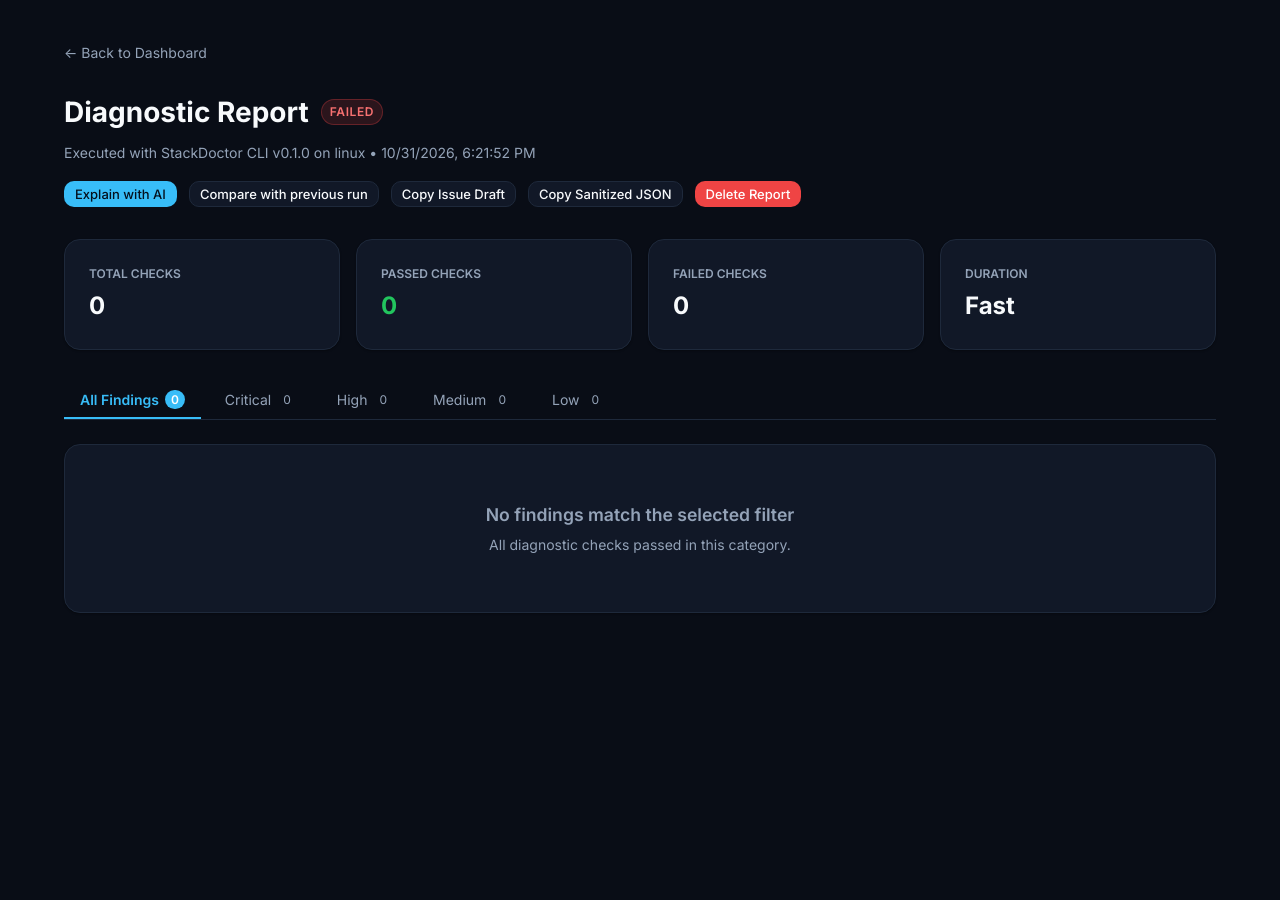
it: StackDoctor Web Application Pages (Run 3E) › 3. Diagnostic Report Page (Observed Evidence vs Possible Causes) › renders 'Explain with AI' button and renders AI explanations with inert XSS protection
Click the button "Explain with AI". click: (120, 194)
box: top-left (64, 181), bottom-right (177, 207)
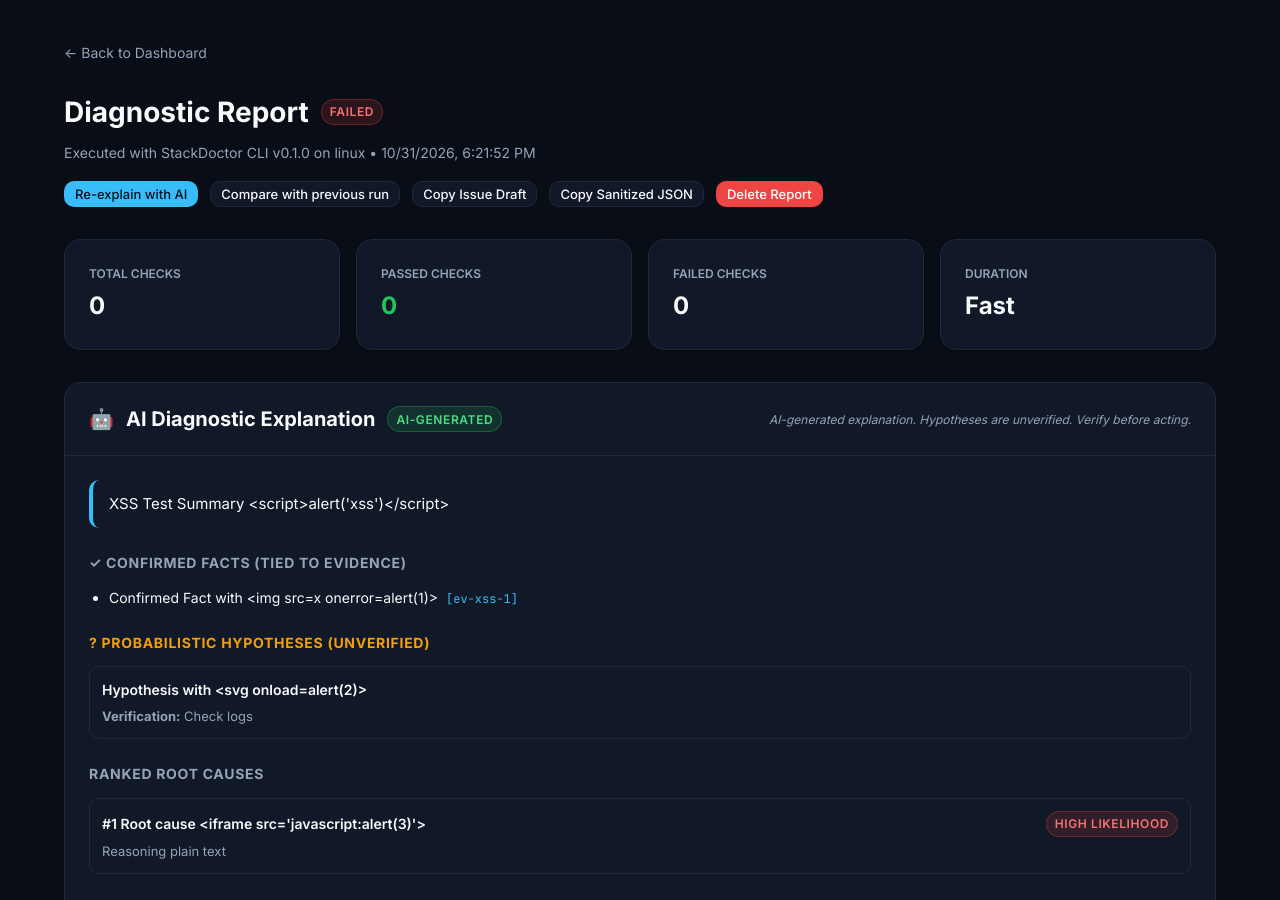
Result: the heading "AI Diagnostic Explanation" is shown at top-left (126, 403), bottom-right (376, 435)
Result: the text "AI-GENERATED" is shown at top-left (387, 406), bottom-right (502, 432)
Result: the heading "✓ Confirmed Facts (Tied to Evidence)" is shown at top-left (89, 554), bottom-right (407, 571)
